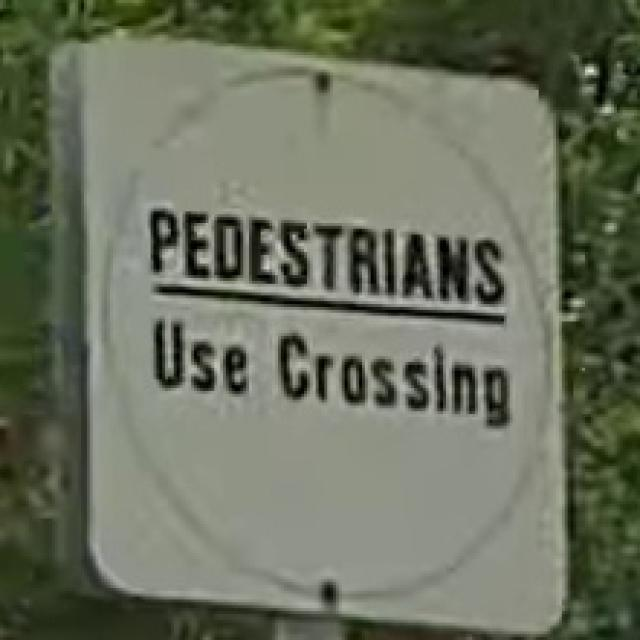pedestriancrossing_sign: (44, 26, 574, 637)
